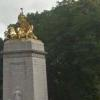Statue: (4, 5, 47, 64)
